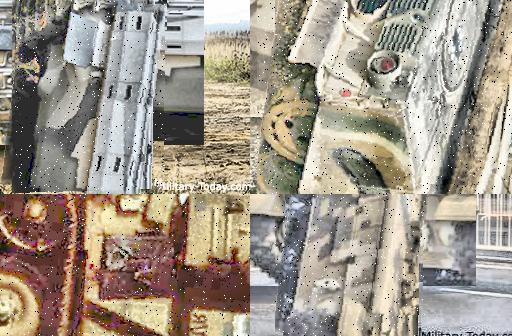tanks: (259, 1, 512, 195), (1, 195, 251, 336), (17, 1, 167, 195), (277, 195, 426, 336)
